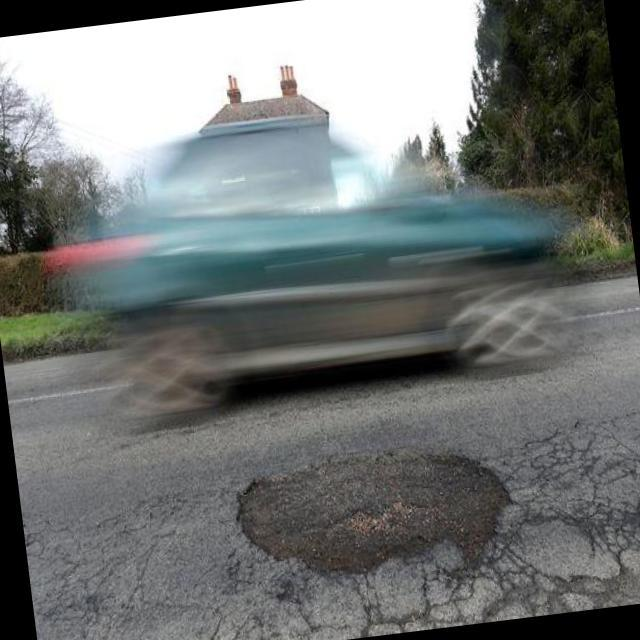Pothole: (238, 451, 508, 572)
